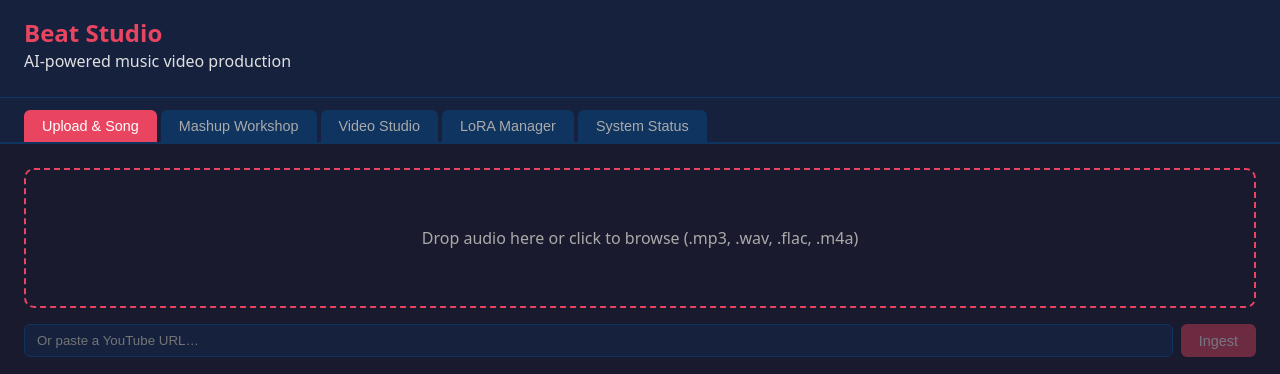
Scenario: App › switches to system tab and shows hardware status
Click the button "System Status" at (642, 126), box [578,110,707,142]
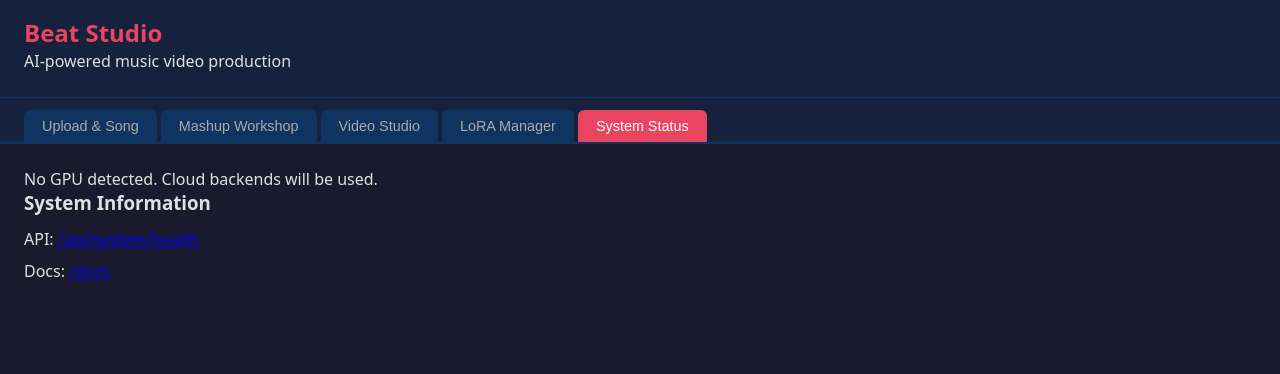
expect the text "No GPU detected. Cloud backends will be used." is shown: met, box [24,168,378,190]
